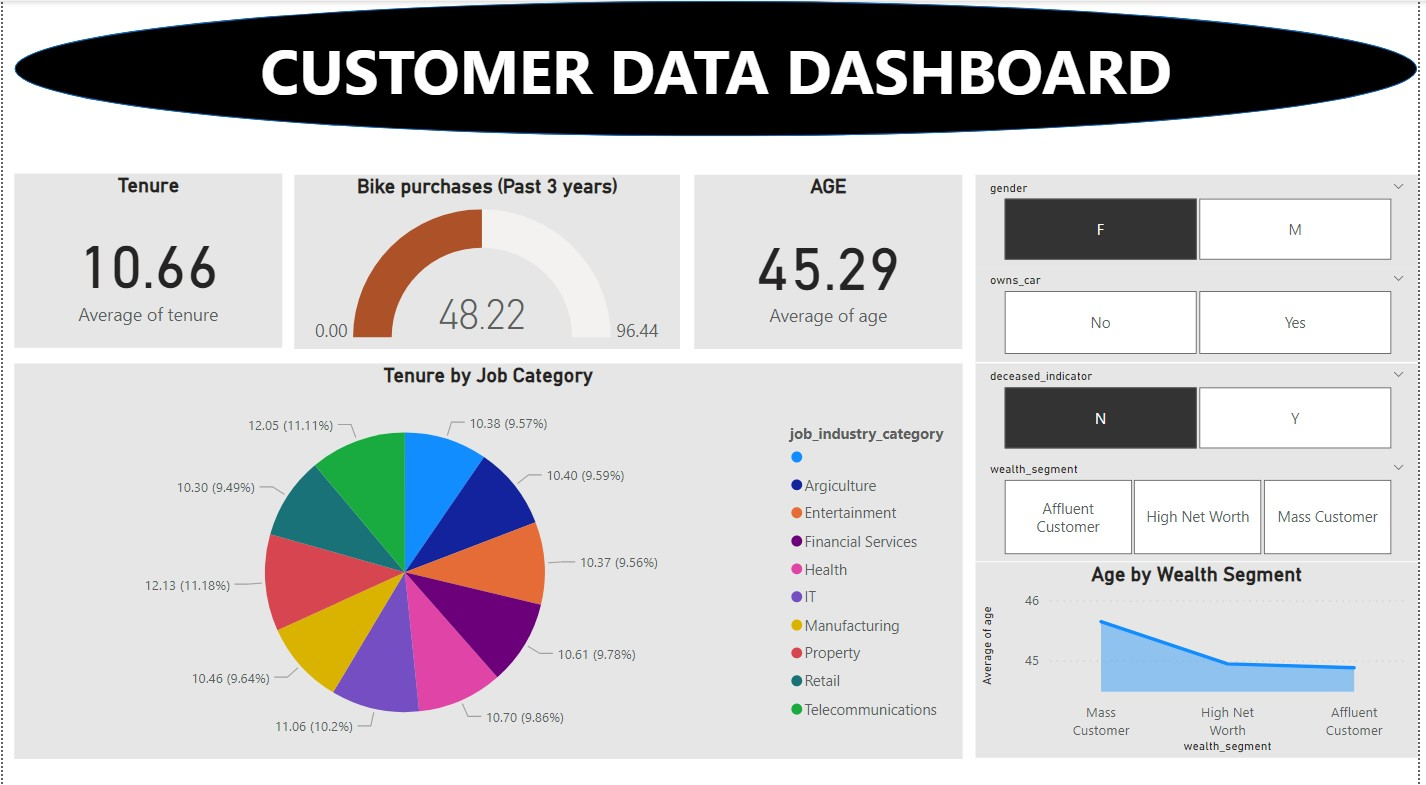

Layout of this report page (visuals, bound fields, positions):
{"tool":"powerbi","page":{"name":"Page 1","canvas":[1280,720],"ordinal":0},"visuals":[{"type":"shape","box":[10.3,0,1269.1,122.1],"z":0},{"type":"card","title":"Tenure","fields":{"Values":["Avg(customerDataAfterCleaning.tenure)"]},"box":[10.3,155.9,242.6,157.4],"z":1000},{"type":"card","title":"AGE","fields":{"Values":["Avg(customerDataAfterCleaning.age)"]},"box":[625,157.4,242.6,157.4],"z":2000},{"type":"gauge","title":"Bike purchases (Past 3 years)","fields":{"Y":["Avg(customerDataAfterCleaning.past_3_years_bike_related_purchases)"]},"box":[263.2,157.4,348.5,157.4],"z":3000},{"type":"pieChart","title":"Tenure by Job Category","fields":{"Y":["Avg(customerDataAfterCleaning.tenure)"],"Series":["customerDataAfterCleaning.job_industry_category"]},"box":[10.3,327.9,857.4,357.4],"z":4000},{"type":"slicer","fields":{"Values":["customerDataAfterCleaning.gender"]},"box":[879.4,157.4,400,83.8],"z":5000},{"type":"slicer","fields":{"Values":["customerDataAfterCleaning.owns_car"]},"box":[879.4,241.2,400,85.3],"z":6000},{"type":"slicer","fields":{"Values":["customerDataAfterCleaning.deceased_indicator"]},"box":[879.4,327.9,400,83.8],"z":7000},{"type":"slicer","fields":{"Values":["customerDataAfterCleaning.wealth_segment"]},"box":[879.4,411.8,400,95.6],"z":7001},{"type":"stackedAreaChart","title":"Age by Wealth Segment","fields":{"Y":["Avg(customerDataAfterCleaning.age)"],"Category":["customerDataAfterCleaning.wealth_segment"]},"box":[879,508,400,177],"z":7002}]}

Visuals, with their boxes in screenshot pixels (x1, y1, x2, y2), scaled from the page's 1280x720 canvas onto the 1426x785 screenshot:
shape: bbox=[11, 0, 1425, 133]
"Tenure" card: bbox=[11, 170, 282, 342]
"AGE" card: bbox=[696, 172, 967, 343]
"Bike purchases (Past 3 years)" gauge: bbox=[293, 172, 681, 343]
"Tenure by Job Category" pieChart: bbox=[11, 358, 967, 747]
slicer - customerDataAfterCleaning.gender: bbox=[980, 172, 1425, 263]
slicer - customerDataAfterCleaning.owns_car: bbox=[980, 263, 1425, 356]
slicer - customerDataAfterCleaning.deceased_indicator: bbox=[980, 358, 1425, 449]
slicer - customerDataAfterCleaning.wealth_segment: bbox=[980, 449, 1425, 553]
"Age by Wealth Segment" stackedAreaChart: bbox=[979, 554, 1425, 747]
